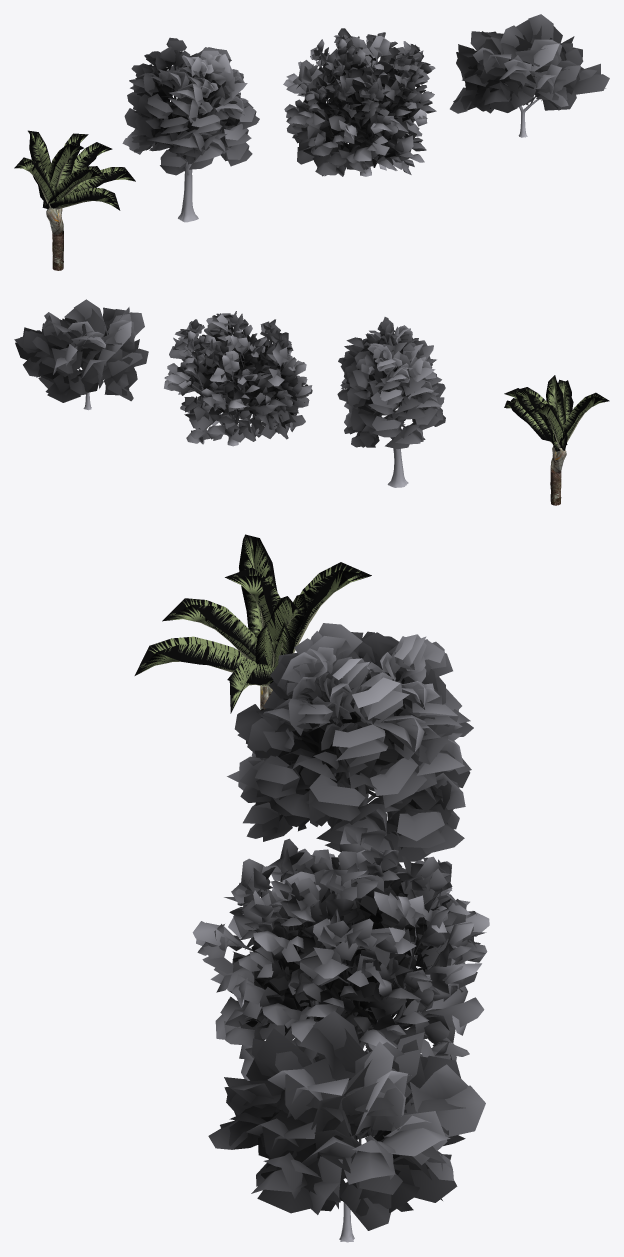
Rendered from Arvores.fbx.
3 views of the same model, one above another, from view 1: azimuth 30°, elevation 25°; view 2: azimuth 150°, elevation 25°; view 3: azimuth 270°, elevation 25° (orthographic). The views are drawn at different scales.
Parts seen in each view (by area): view 1: AM113_014_Ulmus_Campestris, AM113_016_Quercusgw, AM113_030_Tilia, Plane019, Tronco, Cylinder001, Line001; view 2: AM113_014_Ulmus_Campestris, AM113_016_Quercusgw, AM113_030_Tilia, Plane019, Tronco, Cylinder001, Tronco001, Line001; view 3: AM113_014_Ulmus_Campestris, AM113_016_Quercusgw, AM113_030_Tilia, Plane019.
Part boxes in pixels (left/top/right/bottom): AM113_014_Ulmus_Campestris: left=283, top=28, right=436, bottom=176; AM113_016_Quercusgw: left=122, top=37, right=259, bottom=175; AM113_030_Tilia: left=450, top=14, right=609, bottom=113; Plane019: left=14, top=130, right=135, bottom=210; Tronco: left=174, top=91, right=207, bottom=222; Cylinder001: left=52, top=234, right=63, bottom=270; Line001: left=46, top=208, right=63, bottom=236; AM113_014_Ulmus_Campestris: left=164, top=311, right=312, bottom=444; AM113_016_Quercusgw: left=337, top=317, right=445, bottom=449; AM113_030_Tilia: left=14, top=299, right=148, bottom=402; Plane019: left=504, top=375, right=609, bottom=451; Tronco: left=386, top=374, right=408, bottom=487; Cylinder001: left=550, top=472, right=561, bottom=505; Tronco001: left=195, top=335, right=280, bottom=446; Line001: left=550, top=446, right=566, bottom=473; AM113_014_Ulmus_Campestris: left=192, top=826, right=489, bottom=1080; AM113_016_Quercusgw: left=227, top=623, right=473, bottom=862; AM113_030_Tilia: left=208, top=1011, right=485, bottom=1230; Plane019: left=134, top=534, right=371, bottom=713.
Bounding box in the file's own units: 990 × 261 × 273.
